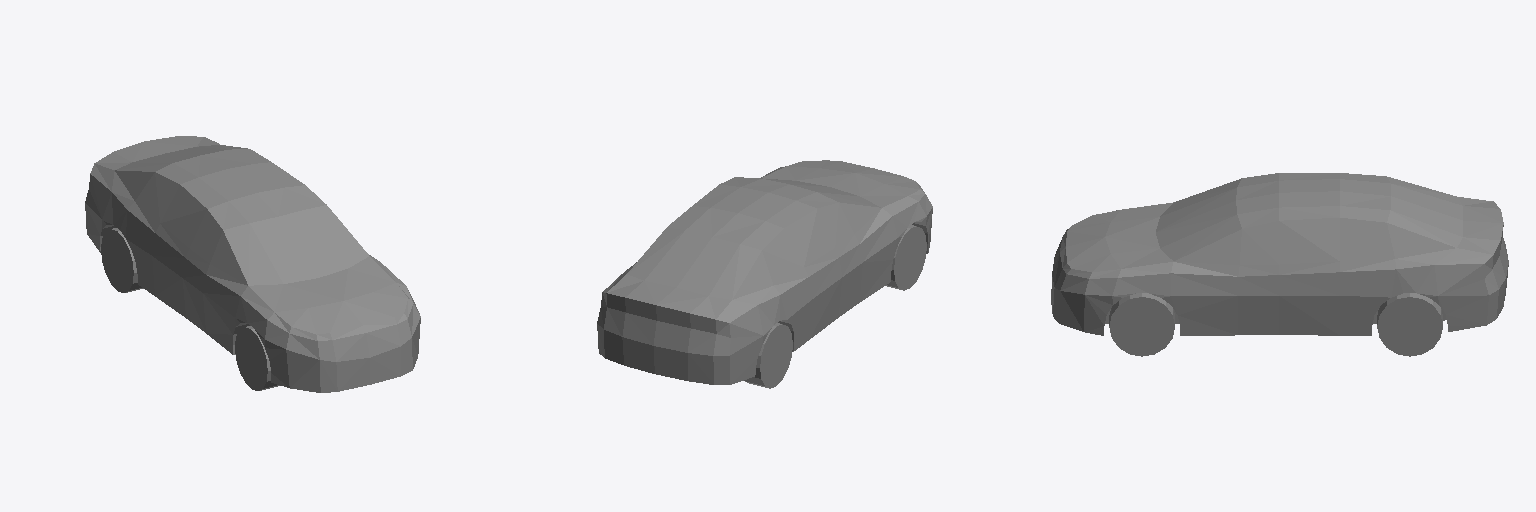
File: stcar.obj
3 views of the same model, side by side, from view 1: azimuth 30°, elevation 25°; view 2: azimuth 150°, elevation 25°; view 3: azimuth 270°, elevation 25° (orthographic).
Visible parts, largest first — view 1: sonata_luna_grey; view 2: sonata_luna_grey; view 3: sonata_luna_grey.
Part boxes in pixels (x1,y1,x2,y2): sonata_luna_grey: (85,136,420,392); sonata_luna_grey: (597,160,932,388); sonata_luna_grey: (1051,173,1508,356).
Bounding box in the file's own units: 1.72 × 1.42 × 4.54.